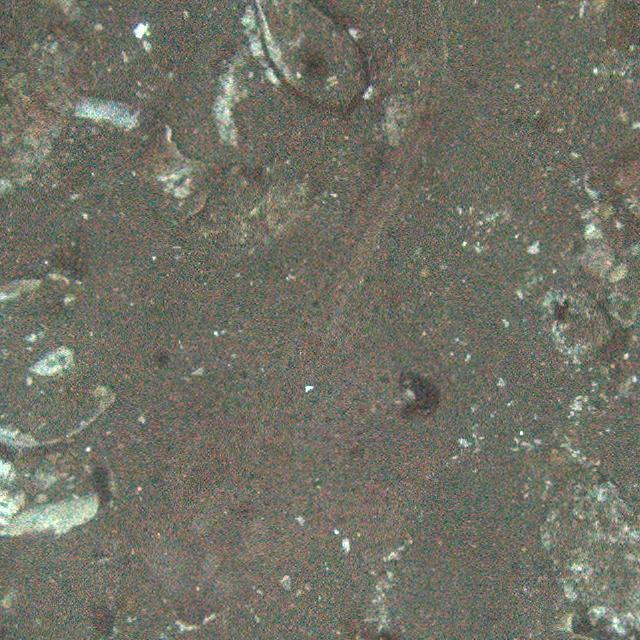skate: (92, 111, 460, 613)
